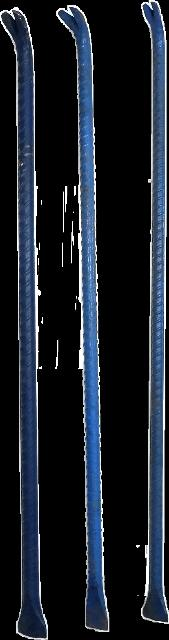crow bar: (56, 0, 109, 639), (1, 4, 50, 640), (136, 0, 169, 629)
